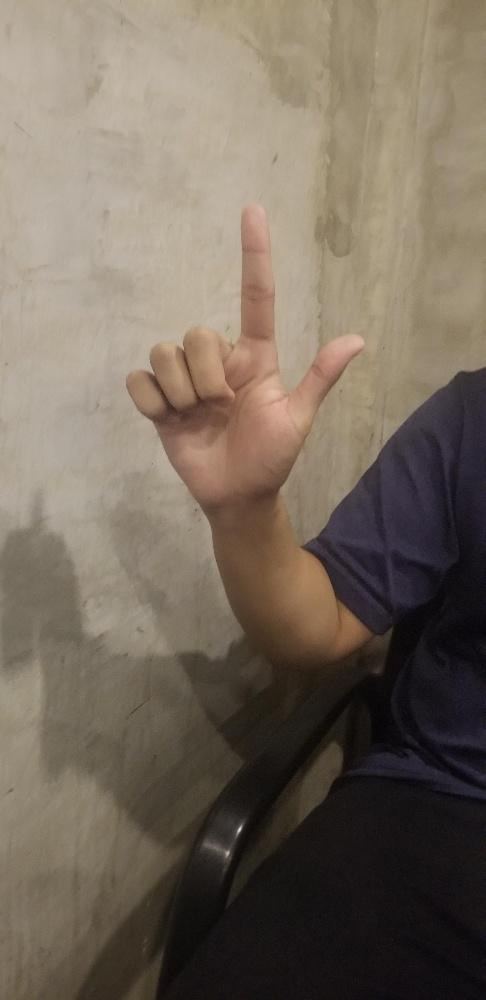l: (122, 203, 366, 508)
